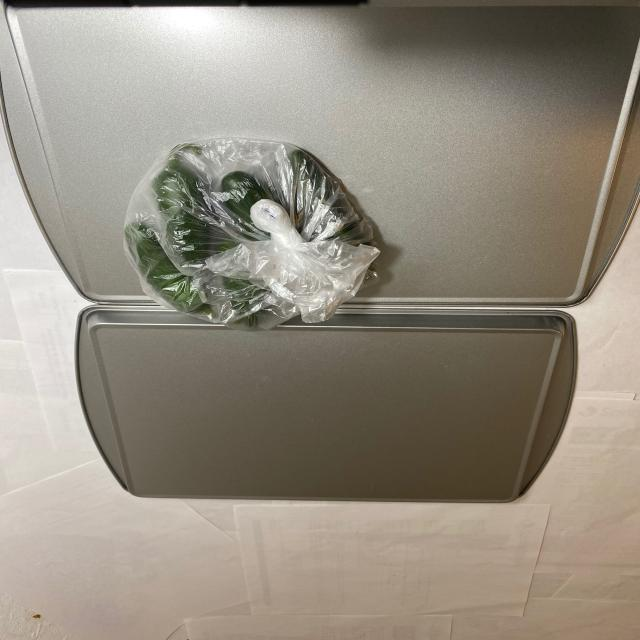chilli: (119, 144, 369, 329)
